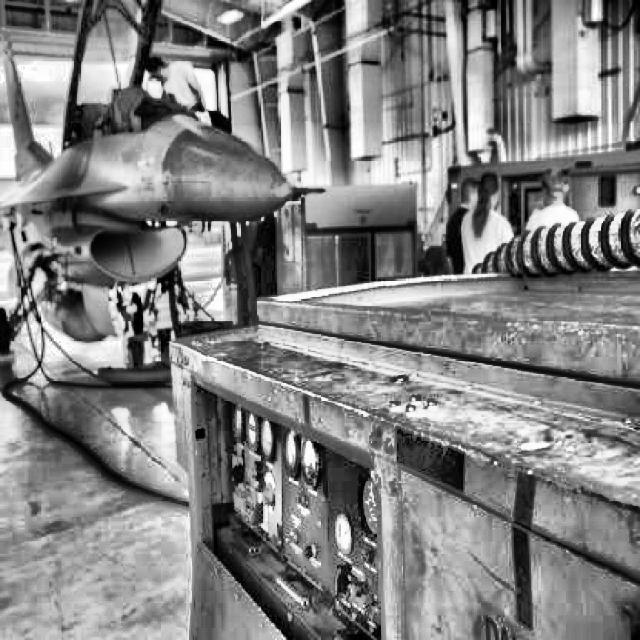F16: (0, 0, 326, 369)
